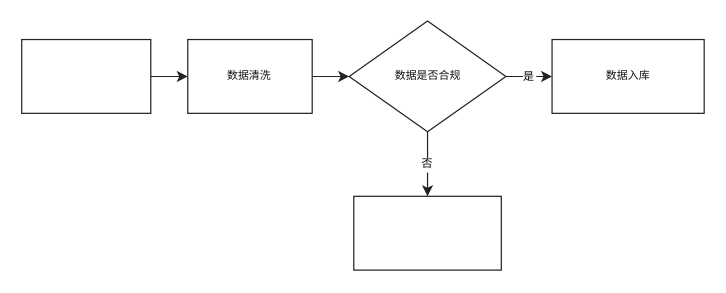
Some shapes in this 726 by 293 pixel diagram are drawn without their labels. The shapes that lost their labels are listed below. From the top down, each one's centre as x and y in pixels, then its label:
pixel 85 75: 数据采集
pixel 427 232: 异常处理
